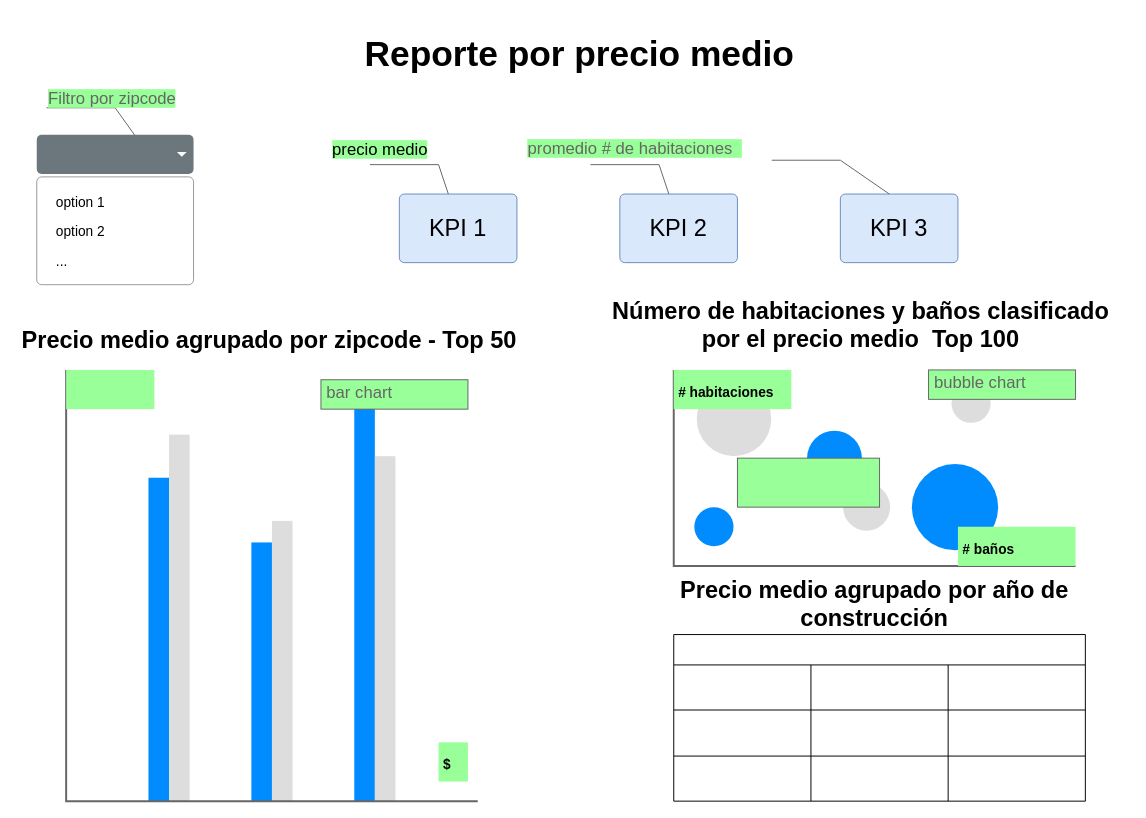
Image size: 1146x818. Some labels were removed from this diagram. The shapes that lost their labels are listed below. From the top down, each one's centre as x and y in pixels, then its label:
At (x=114, y=153): "Filter 1".
At (x=830, y=164): "promedio # de baños".
At (x=110, y=389): "zipcode".
At (x=808, y=482): "size: average price".
At (x=879, y=717): "Table".
